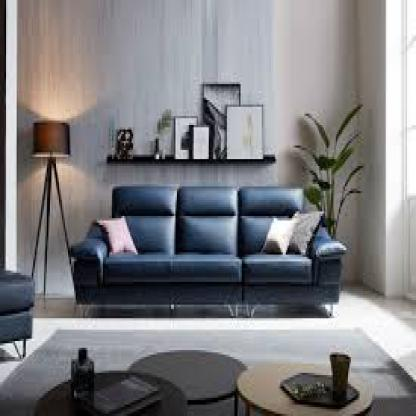sofa: (71, 182, 340, 323)
